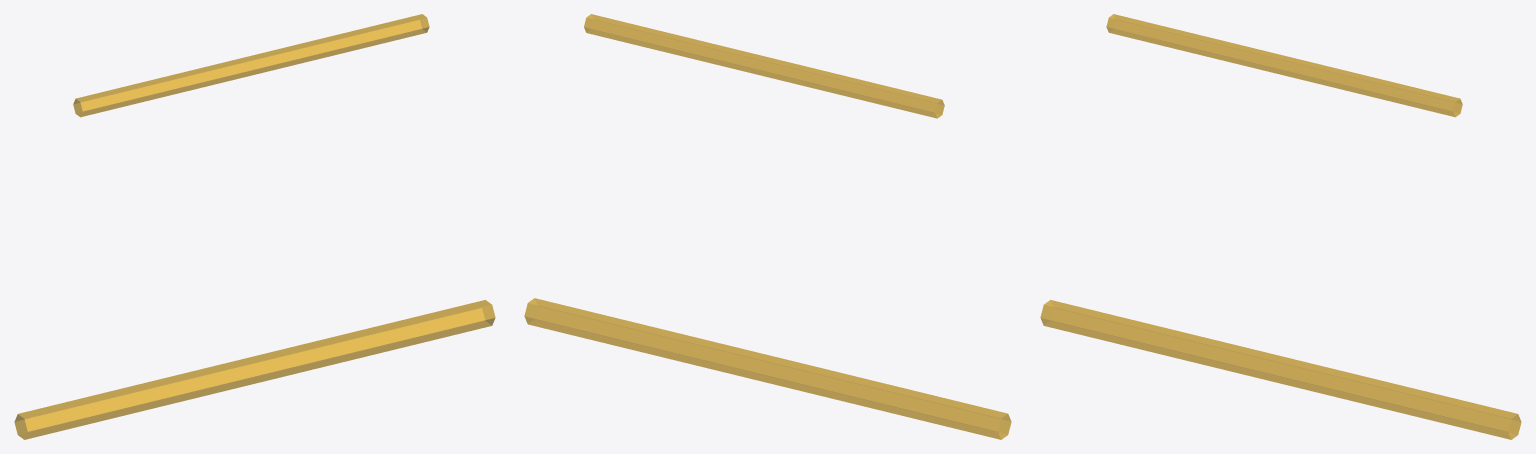
File: SM_Veh_Ship_M_Mast_Back_02_Boom_01_Collision.fbx
The picture shows the model from 3 angles, left to right: view 1: azimuth 30°, elevation 25°; view 2: azimuth 150°, elevation 25°; view 3: azimuth 330°, elevation 25°; orthographic projection.
Visible parts, largest first — view 1: SM_Veh_Ship_M_Mast_Back_02_Boom_01_Collision; view 2: SM_Veh_Ship_M_Mast_Back_02_Boom_01_Collision; view 3: SM_Veh_Ship_M_Mast_Back_02_Boom_01_Collision.
Boxes of the visible parts, <box> form: SM_Veh_Ship_M_Mast_Back_02_Boom_01_Collision: <box>14,14,495,439</box>; SM_Veh_Ship_M_Mast_Back_02_Boom_01_Collision: <box>524,14,1011,439</box>; SM_Veh_Ship_M_Mast_Back_02_Boom_01_Collision: <box>1040,14,1521,439</box>.
Size of the model in its own units: 1397 by 913 by 78.56.
